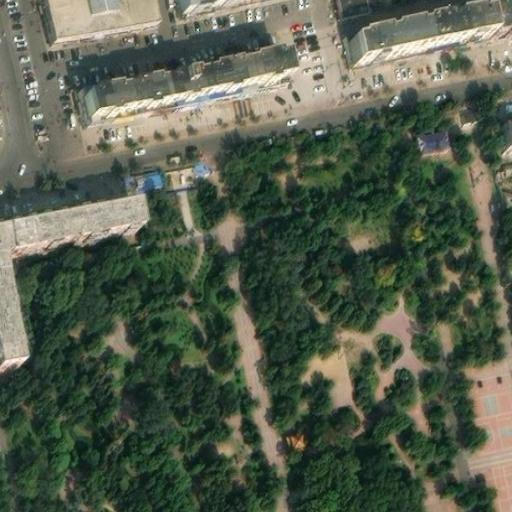building: (0, 195, 144, 360), (86, 41, 288, 110), (350, 0, 494, 57), (0, 182, 139, 223), (418, 120, 453, 147), (282, 425, 310, 453), (489, 0, 512, 26), (493, 119, 512, 147)
